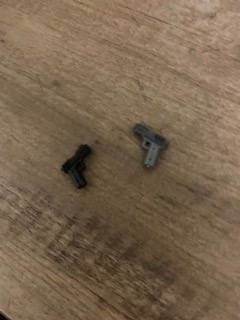pistol: (129, 119, 172, 174), (57, 141, 93, 190)
